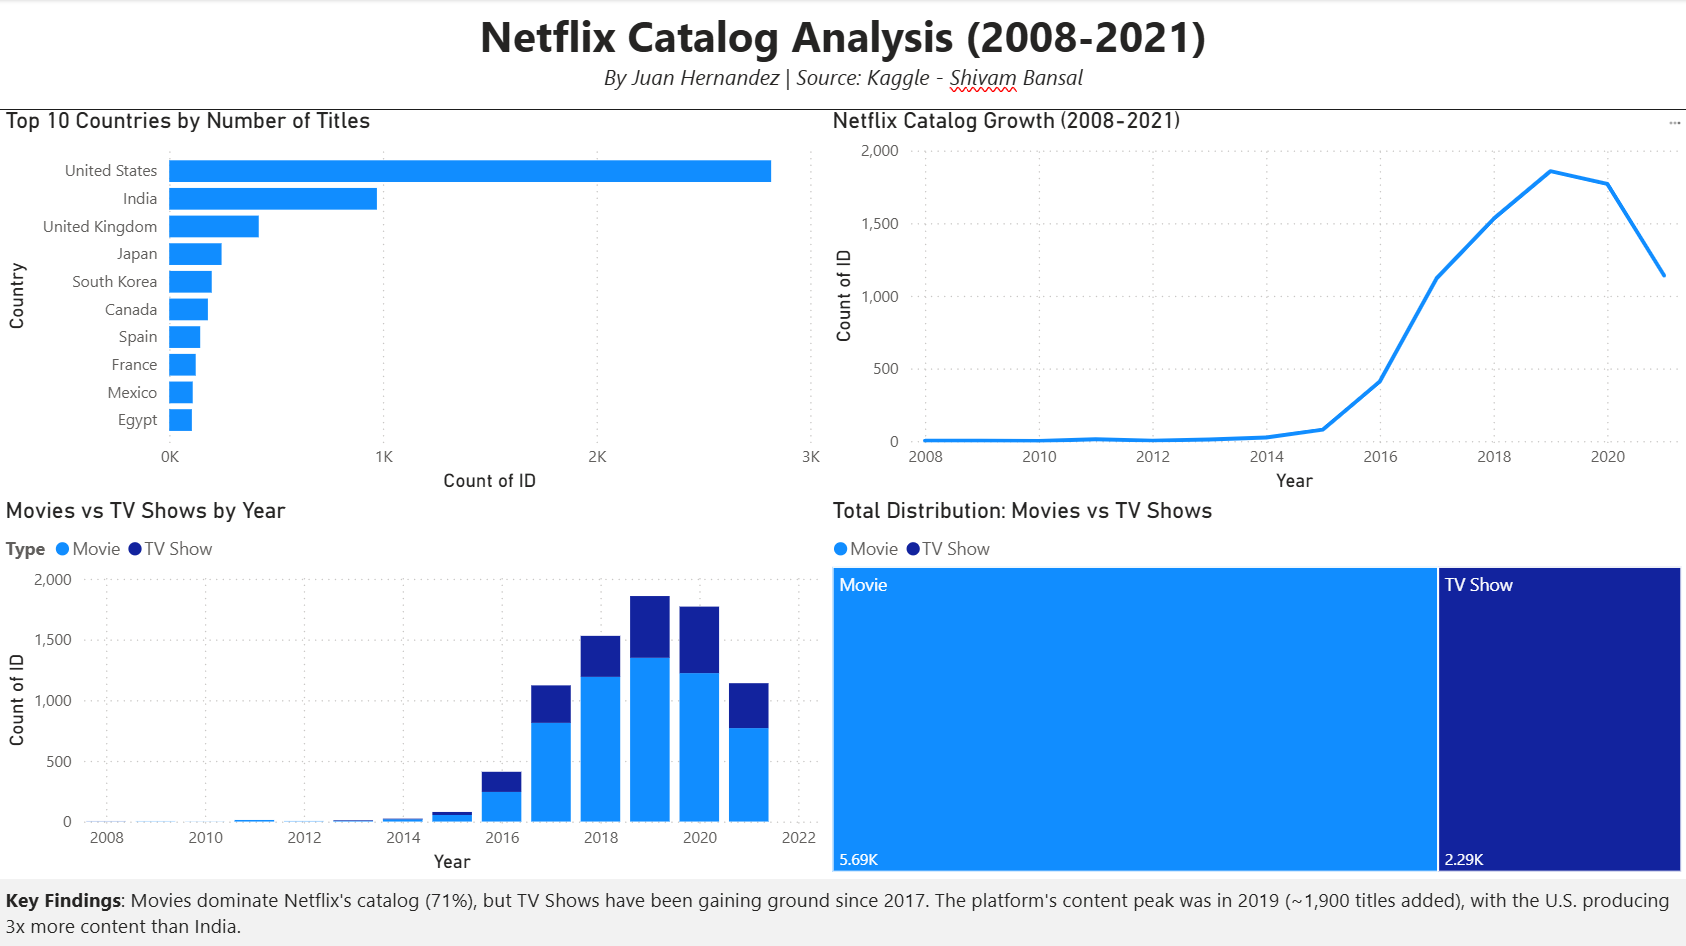

The page's visual inventory and layout, read from the dashboard file:
{"tool":"powerbi","page":{"name":"Page 1","canvas":[1280,720],"ordinal":0},"visuals":[{"type":"clusteredBarChart","title":"Top 10 Countries by Number of Titles","fields":{"Category":["netflix_titles.country"],"Y":["CountNonNull(netflix_titles.show_id)"]},"box":[0,81.5,626.8,296.2],"z":0},{"type":"lineChart","title":"Netflix Catalog Growth (2008-2021)","fields":{"Category":["netflix_titles.date_added.Variation.Date Hierarchy.Year","netflix_titles.date_added.Variation.Date Hierarchy.Quarter","netflix_titles.date_added.Variation.Date Hierarchy.Month","netflix_titles.date_added.Variation.Date Hierarchy.Day"],"Y":["CountNonNull(netflix_titles.show_id)"]},"box":[626.8,81.5,653.2,296.2],"z":1},{"type":"columnChart","title":"Movies vs TV Shows by Year","fields":{"Category":["netflix_titles.date_added.Variation.Date Hierarchy.Year","netflix_titles.date_added.Variation.Date Hierarchy.Quarter","netflix_titles.date_added.Variation.Date Hierarchy.Month","netflix_titles.date_added.Variation.Date Hierarchy.Day"],"Y":["CountNonNull(netflix_titles.show_id)"],"Series":["netflix_titles.type"]},"box":[0,377.7,626.8,289.3],"z":2},{"type":"treemap","title":"Total Distribution: Movies vs TV Shows","fields":{"Group":["netflix_titles.Type"],"Values":["CountNonNull(netflix_titles.ID)"]},"box":[626.8,377.7,653.2,289.3],"z":3},{"type":"textbox","box":[0,0,1280,83.8],"z":4},{"type":"textbox","box":[0,667,1280,52.8],"z":5}]}

Visuals, with their boxes in screenshot pixels (x1, y1, x2, y2), scaled from the page's 1280x720 canvas onto the 1686x946 screenshot:
"Top 10 Countries by Number of Titles" clusteredBarChart: [x1=0, y1=107, x2=826, y2=496]
"Netflix Catalog Growth (2008-2021)" lineChart: [x1=826, y1=107, x2=1685, y2=496]
"Movies vs TV Shows by Year" columnChart: [x1=0, y1=496, x2=826, y2=876]
"Total Distribution: Movies vs TV Shows" treemap: [x1=826, y1=496, x2=1685, y2=876]
textbox: [x1=0, y1=0, x2=1685, y2=110]
textbox: [x1=0, y1=876, x2=1685, y2=945]
